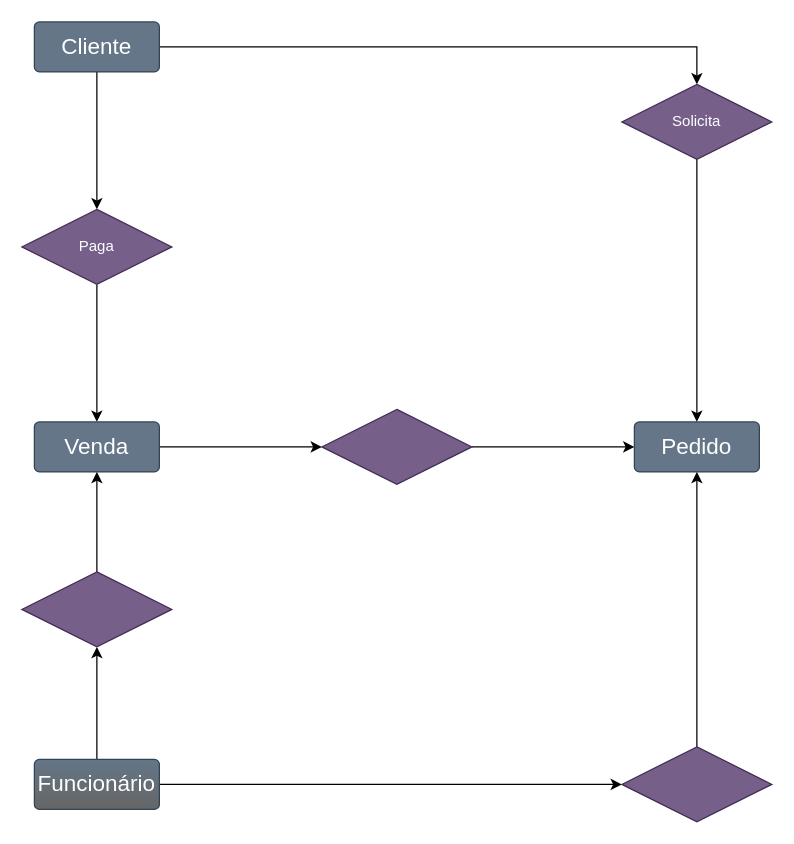
The diagram is 794 pixels wide and 844 high, and some of its shapes have lost their labels. Here are the shapes that lost their labels. From the top down, the box of each, then its label:
(321, 408, 472, 484): Contém
(21, 571, 172, 647): Registra
(621, 746, 772, 822): Atende
